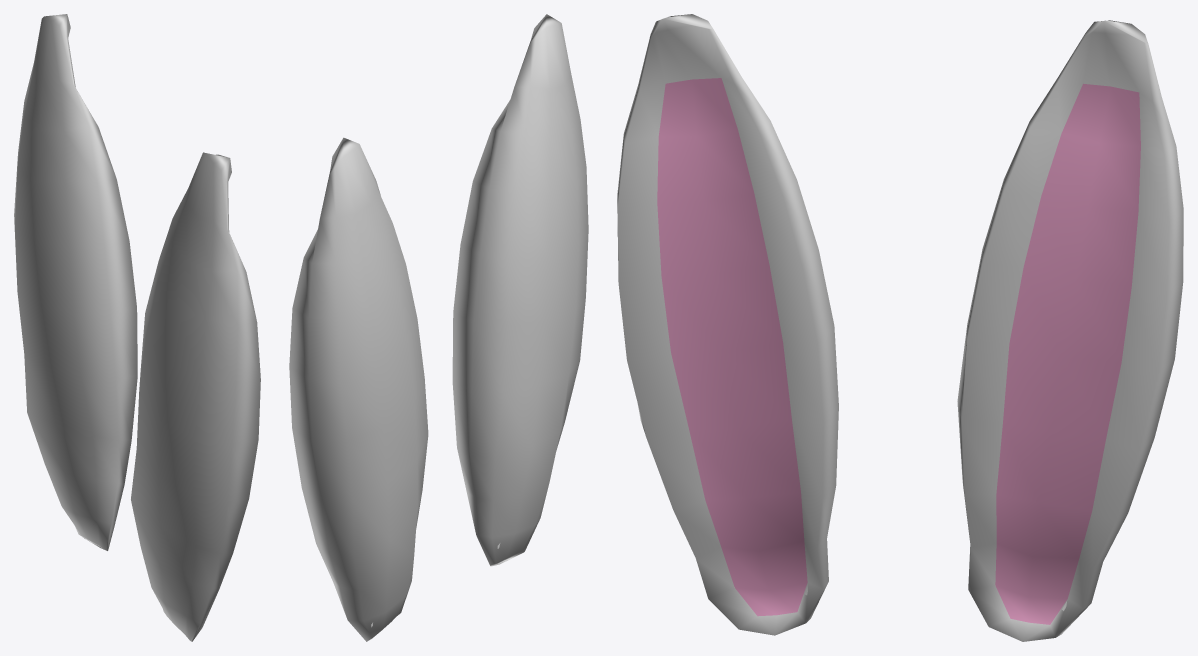
Rendered from BunnyEars.fbx.
3 views of the same model, side by side, from view 1: azimuth 30°, elevation 25°; view 2: azimuth 150°, elevation 25°; view 3: azimuth 270°, elevation 25° (orthographic). The views are drawn at different scales.
Visible parts, largest first — view 1: Sphere.001; view 2: Sphere.001; view 3: Sphere.001.
Boxes of the visible parts, <box> form: Sphere.001: <box>14,14,260,641</box>; Sphere.001: <box>289,14,588,641</box>; Sphere.001: <box>617,14,1183,641</box>.
Size of the model in its own units: 84.17 by 434 by 357.
